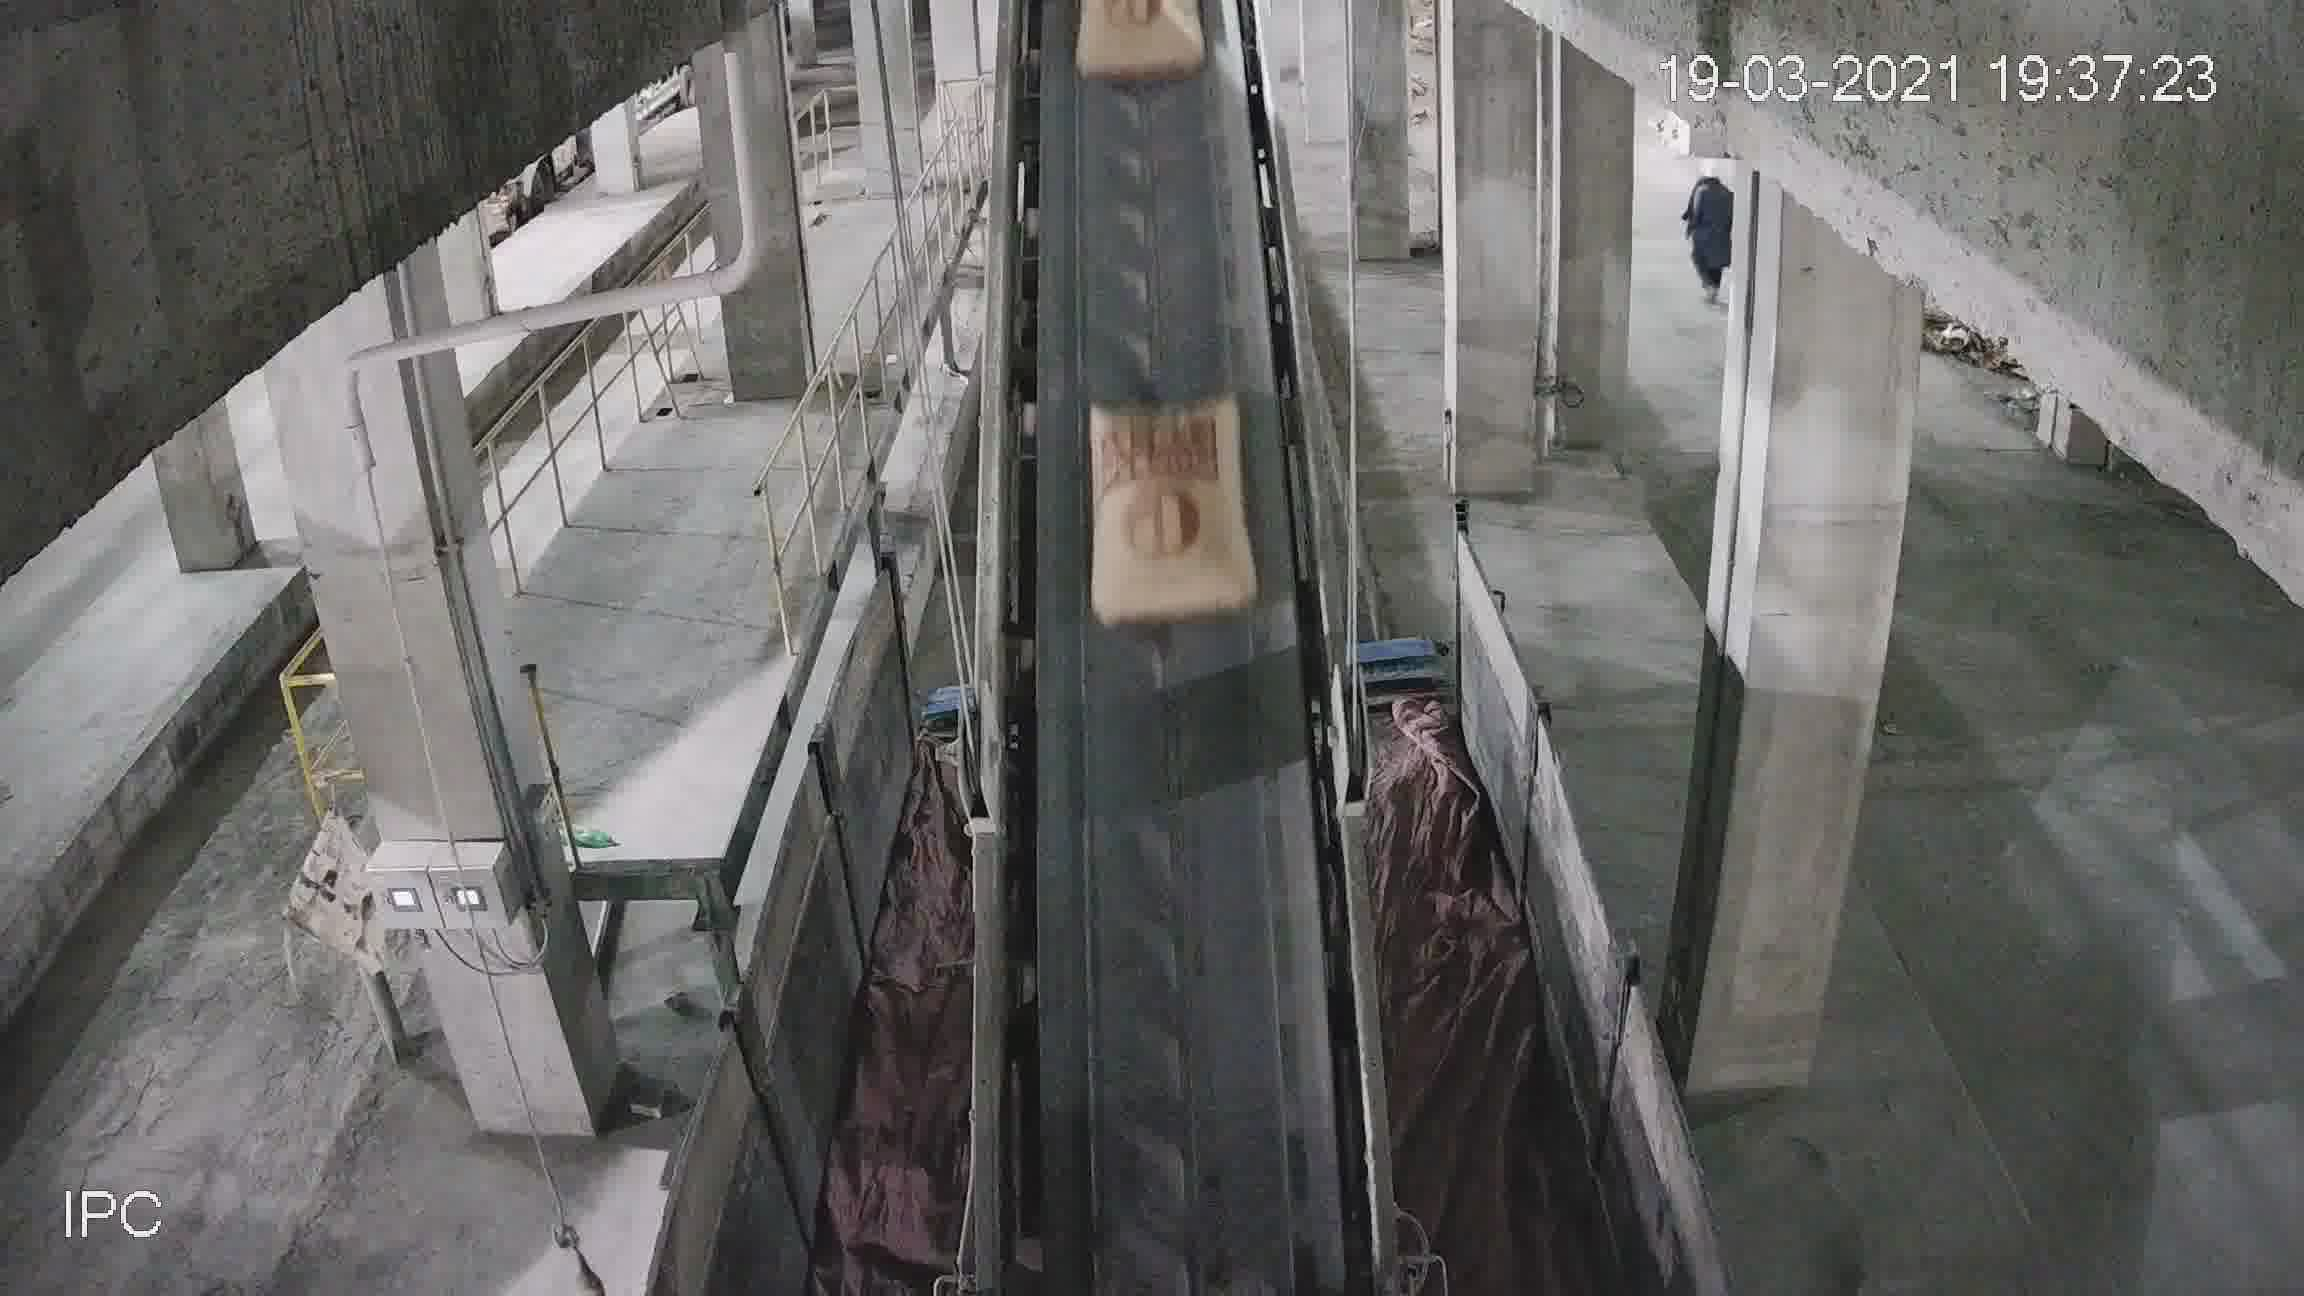bag: (1092, 400, 1249, 633), (1079, 13, 1204, 74)
belt: (980, 59, 1351, 1203)
